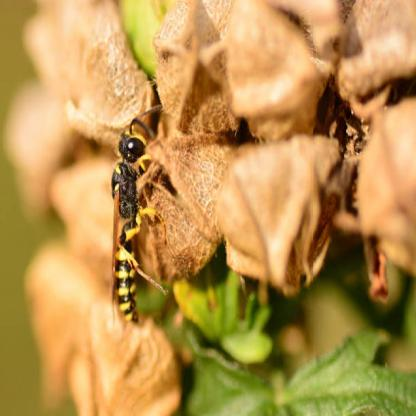sawfly: (101, 97, 182, 331)
